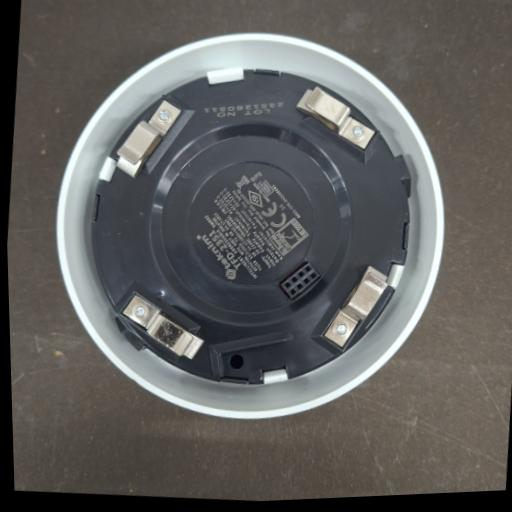yayli: (122, 295, 203, 359), (324, 266, 388, 347), (117, 100, 182, 178), (297, 87, 375, 149)
